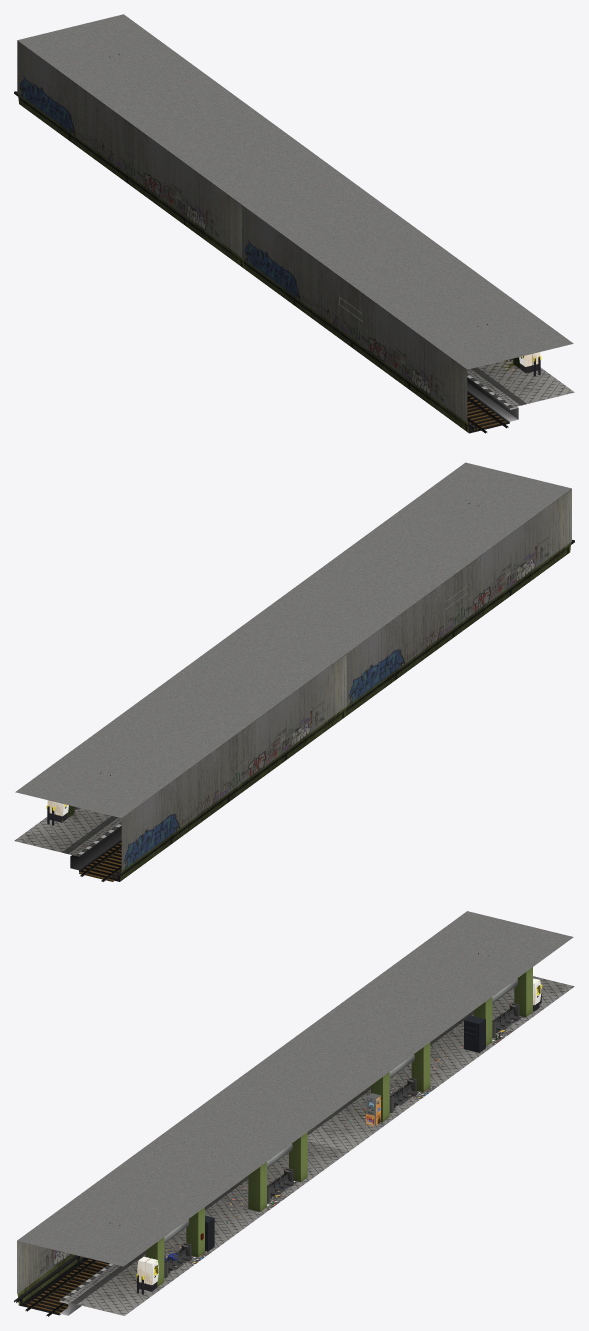
Rendered from metro.glb.
3 renders of one model, top to bottom at view 1: azimuth 30°, elevation 25°; view 2: azimuth 150°, elevation 25°; view 3: azimuth 330°, elevation 25°, orthographic.
Visible parts, largest first — view 1: Object_9, Object_17; view 2: Object_9, Object_17; view 3: Object_9, Object_16, Object_10, Object_17, Object_18, Object_7, Object_8, Object_6.
Boxes of the visible parts, x1,y1,x2,y2 form: Object_9: (17,14,574,433); Object_17: (467,394,508,433); Object_9: (14,462,571,881); Object_17: (79,842,121,881); Object_9: (17,911,574,1315); Object_16: (145,967,532,1286); Object_10: (166,1008,520,1273); Object_17: (25,1259,107,1316); Object_18: (205,1015,485,1251); Object_7: (136,978,542,1294); Object_8: (164,1002,519,1277); Object_6: (164,973,518,1243).
Bounding box in the file's own units: 8.71 × 5.01 × 64.24.
Materials: 23 (21 with a texture image).
